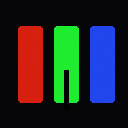4 line_v: (64, 70, 68, 108)
